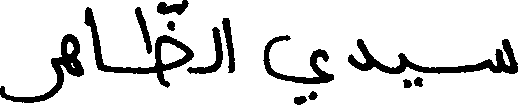ا: (85, 5, 104, 72), (221, 15, 236, 73)
د: (346, 37, 373, 71)
ر: (0, 37, 61, 103)
س: (484, 36, 515, 74)
ظ: (134, 0, 195, 88)
ل: (211, 15, 222, 73)
ه: (59, 31, 80, 89)
ي: (262, 33, 333, 103), (396, 51, 427, 92)
